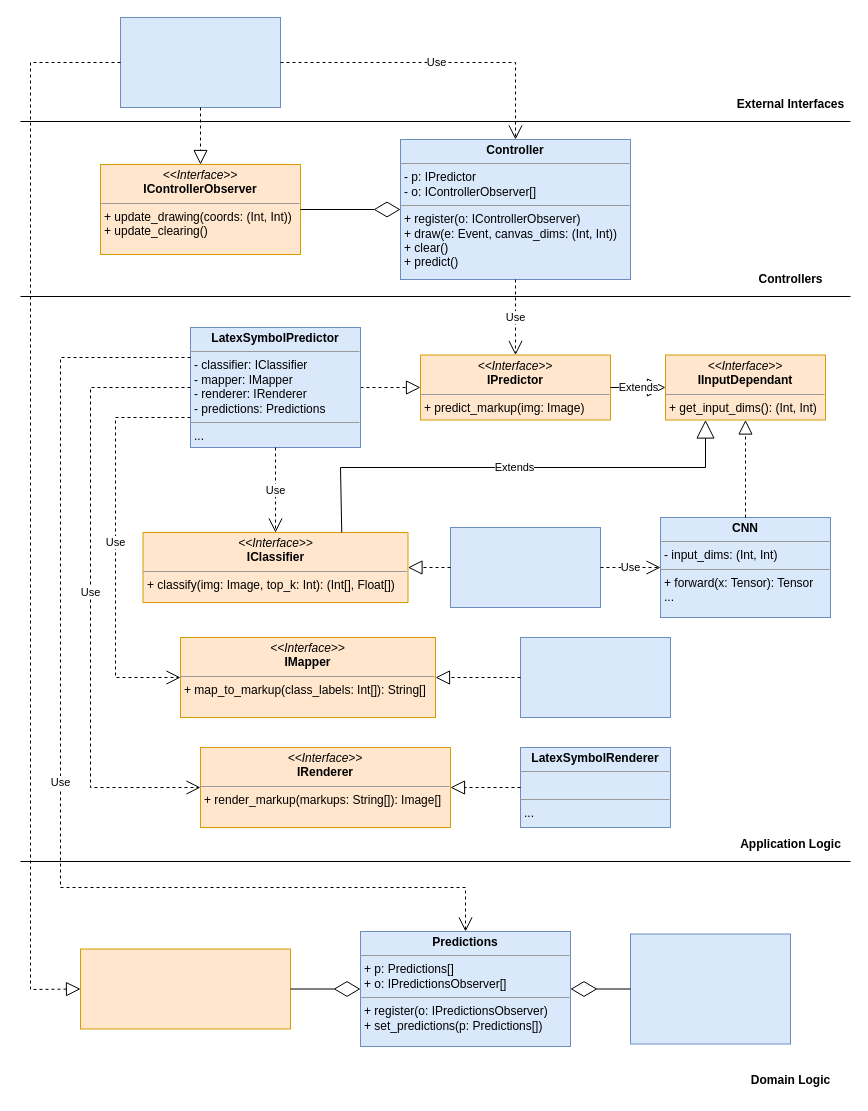
This 868x1111 diagram has some shape labels left out. The centre of each missing label's shape, as x and y in pixels:
<<Interface>> IPredictionsObserver + update_predictions(p: Predictions[]): point (185, 988)
LatexSymbolClassifier + model: CNN ...: point (525, 567)
LatexSymbolMapper + markup_df: DataFrame ...: point (595, 677)
Prediction + class_label: Int + markup: String + render: Image + prob: Float: point (710, 988)
View - c: Controller + run() ...: point (200, 62)
